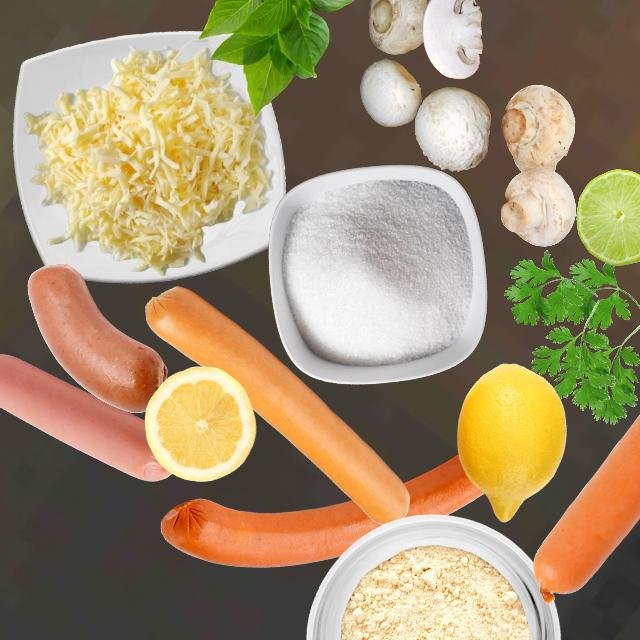Flour: (340, 544, 529, 639)
Sugar: (282, 178, 473, 366)
